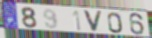0: (106, 12, 124, 34)
1: (72, 10, 82, 31)
6: (129, 12, 146, 36)
8: (20, 6, 39, 29)
9: (43, 8, 59, 30)
V: (82, 9, 103, 33)
